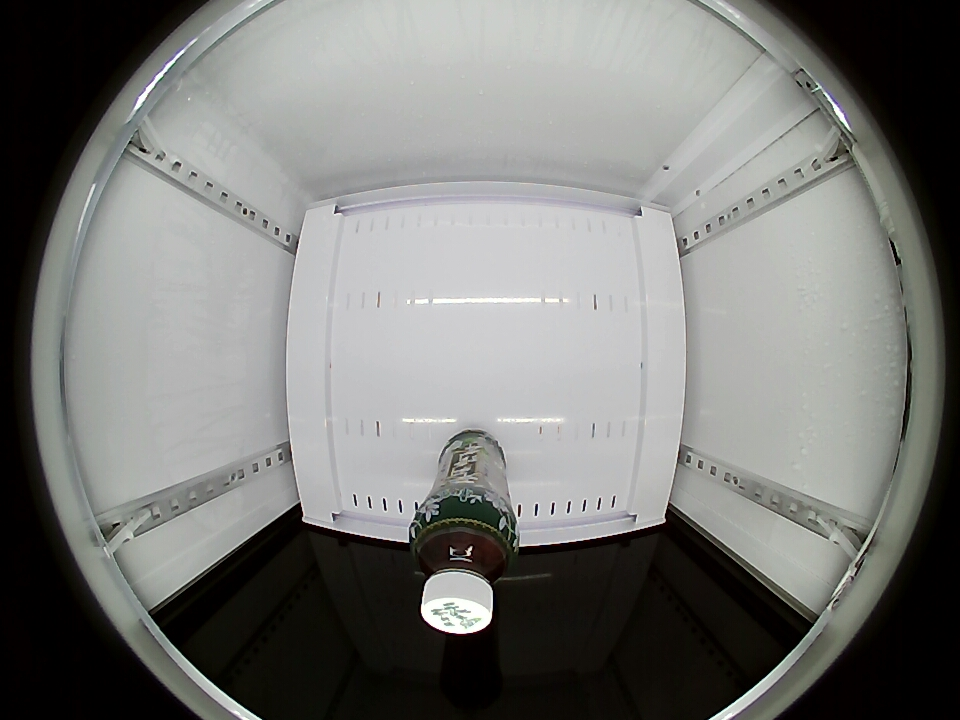moliqingcha: (410, 504, 519, 634)
